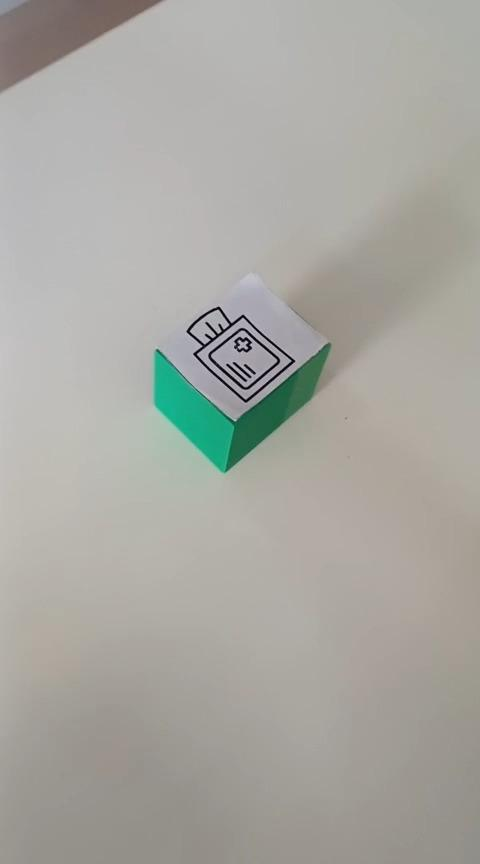Gauze: (152, 270, 331, 473)
